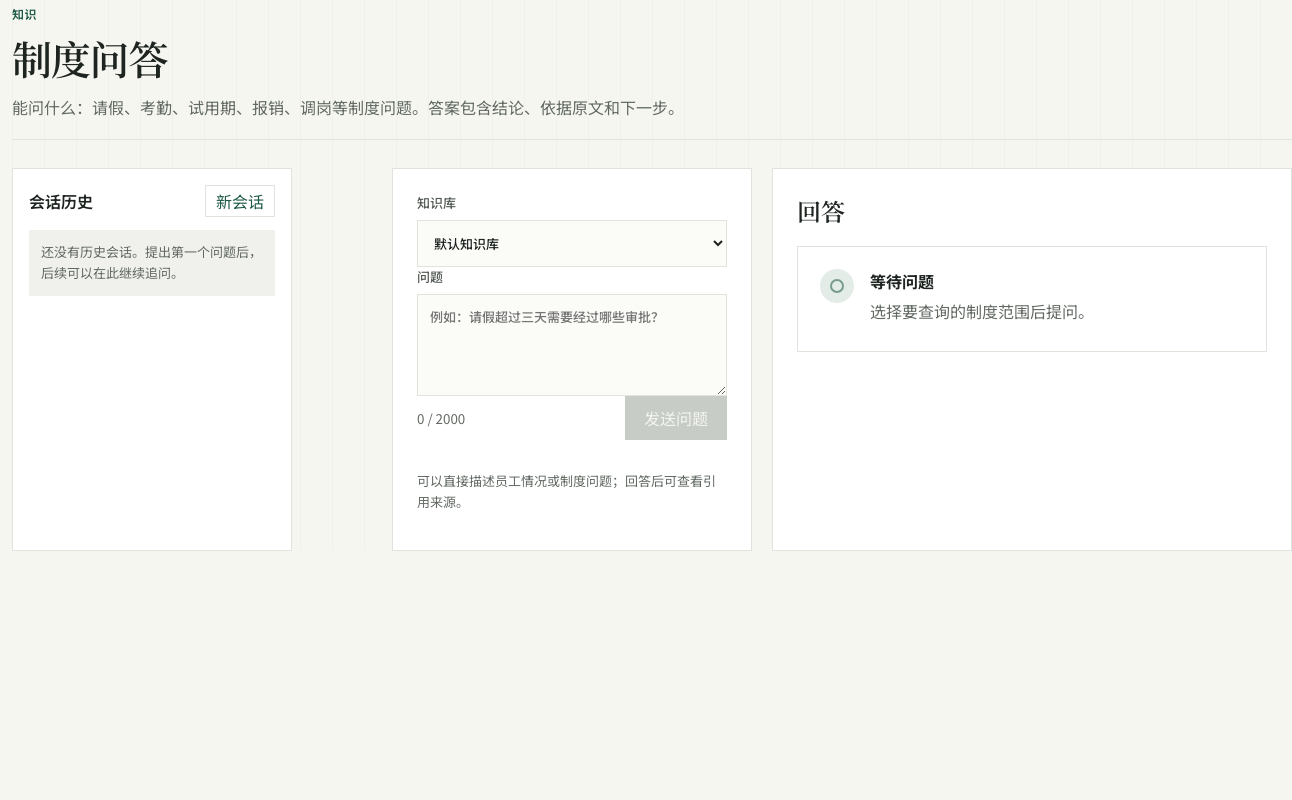
Test: policy QA feedback chain (audit P1-6) › stopping mid-stream marks the partial answer as incomplete
In the text box labelled "问题": (572, 345) [417,294,727,396], type "详细说明"
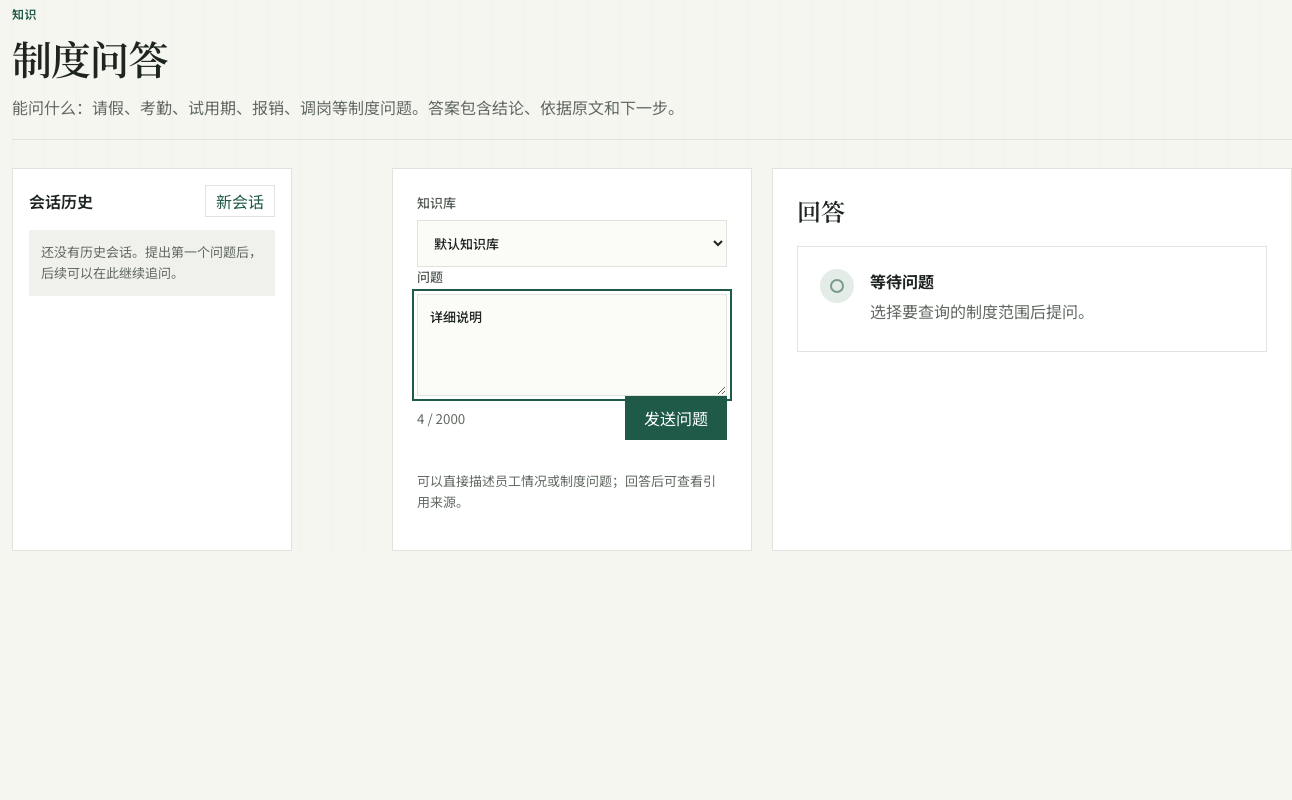
Click the button "发送问题": click(676, 418) [625,396,727,440]
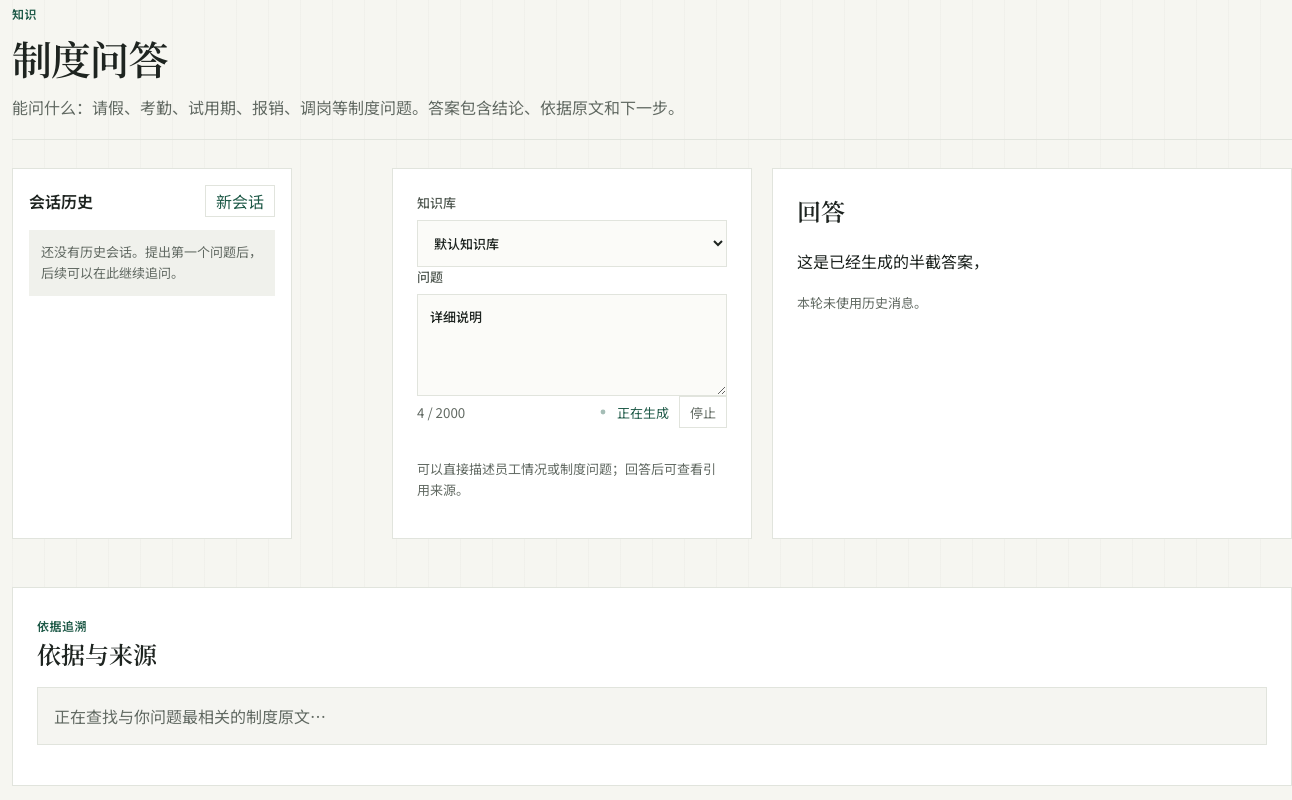
Expected: the text "这是已经生成的半截答案，" is shown, [797,249,989,273]
Click the button "停止": click(703, 412) [679,396,727,428]
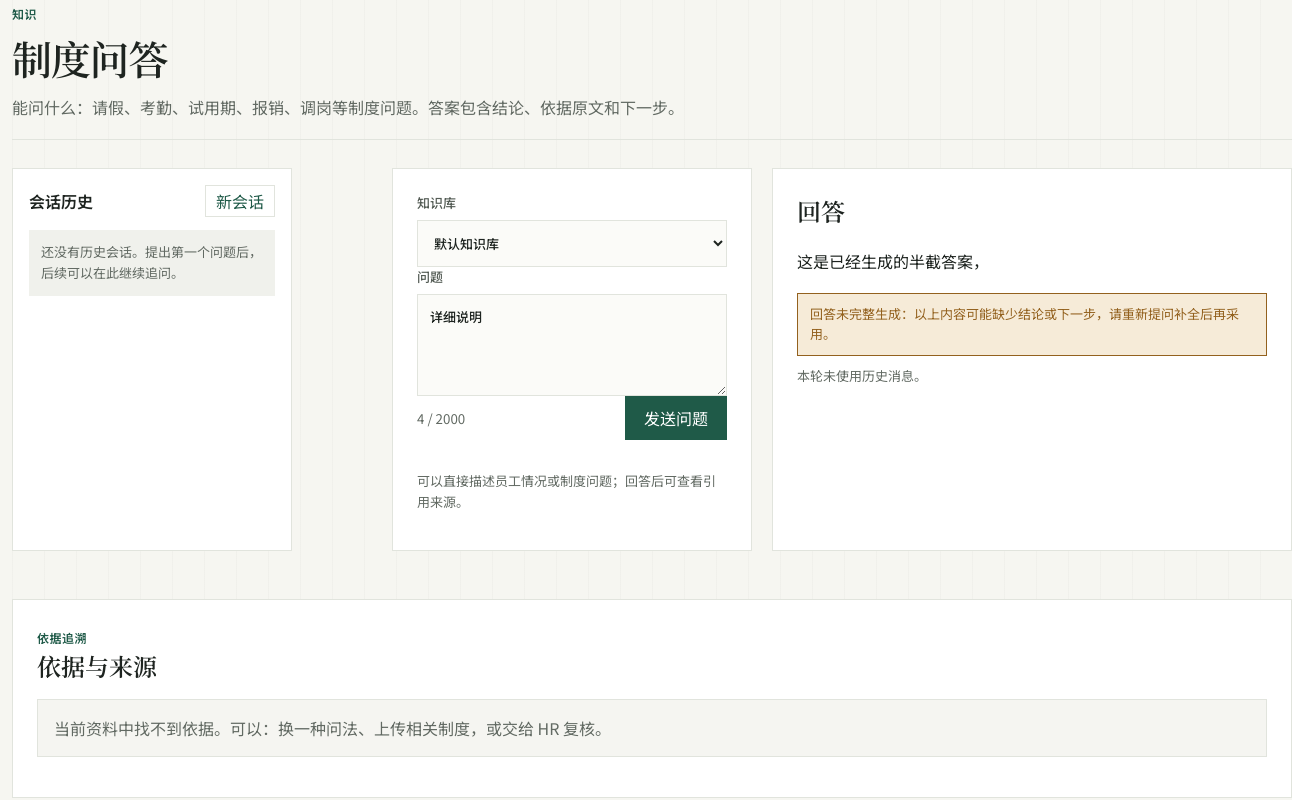
Expected: the text "这是已经生成的半截答案，" is shown, [797,249,989,273]
Expected: the text "回答未完整生成：以上内容可能缺少结论或下一步，请重新提问补全后再采用。" is shown, [797,293,1267,356]
